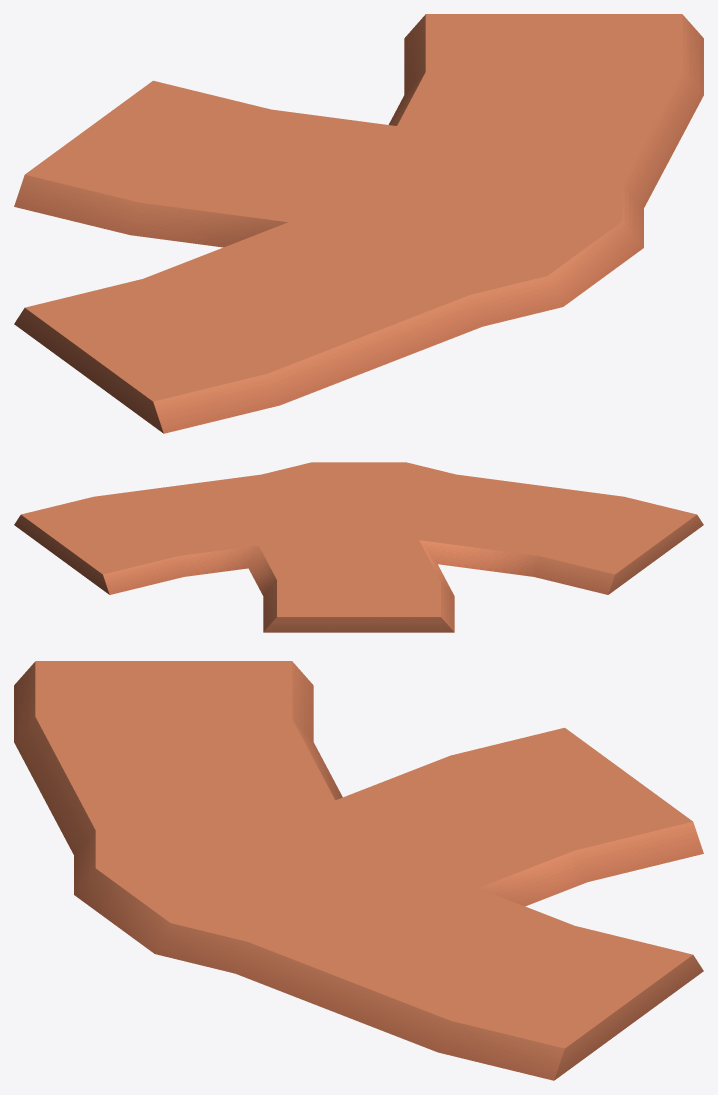
File: path-intersectionA.fbx
The picture shows the model from 3 angles, top to bottom: view 1: azimuth 30°, elevation 25°; view 2: azimuth 150°, elevation 25°; view 3: azimuth 270°, elevation 25°; orthographic projection. The views are drawn at different scales.
Parts seen in each view (by area): view 1: path_intersectionA; view 2: path_intersectionA; view 3: path_intersectionA.
Boxes of the visible parts, x1,y1,x2,y2 form: path_intersectionA: [14, 14, 703, 433]; path_intersectionA: [14, 462, 703, 632]; path_intersectionA: [14, 661, 703, 1080].
Bounding box in the file's own units: 87.08 × 2.5 × 64.23.
Materials: 1 (1 with a texture image).
